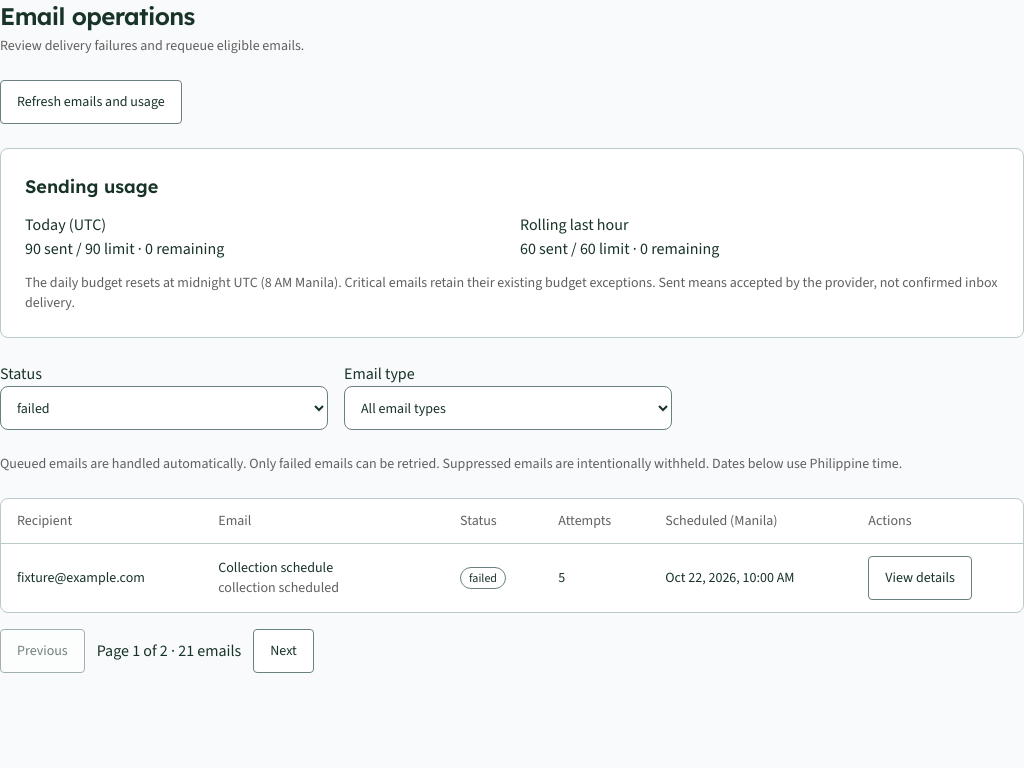
Test case: EmailOperationsPage › opens failed emails with truthful usage and Manila delivery details
Expected: the text "fixture@example.com" is shown, [17,568,145,587]
Expected: the text "90 sent / 90 limit · 0 remaining" is shown, [25,238,224,259]
Click the button with aria-label "View delivery". click: (920, 578)
box: [868,556,972,600]
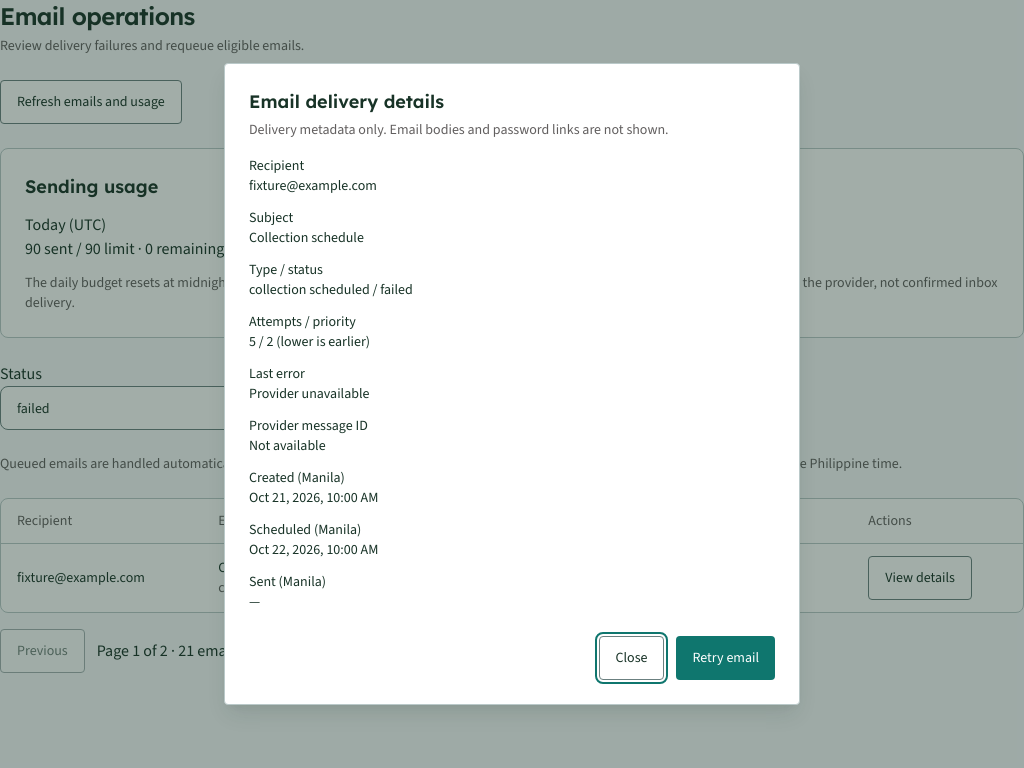
Now the text "Provider unavailable" is shown, box [249,384,370,403]
Now the text "Oct 22, 2026, 10:00 AM" is shown, box [249,540,378,559]
Now the text "Email bodies and password links are not shown" is shown, box [249,120,669,139]
